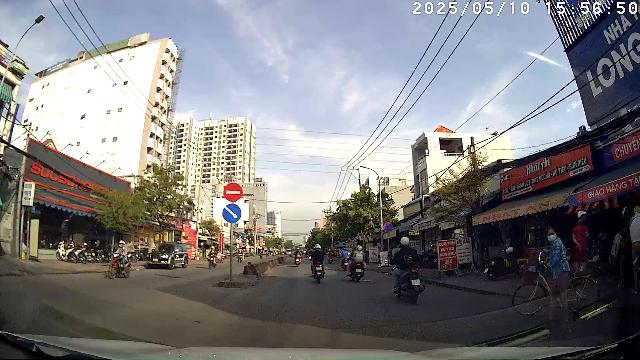102-cam-di-nguoc-chieu: (224, 182, 242, 202)
302a-huong-phai-di-vong-chuong-ngai-vat-1: (222, 204, 242, 222)
